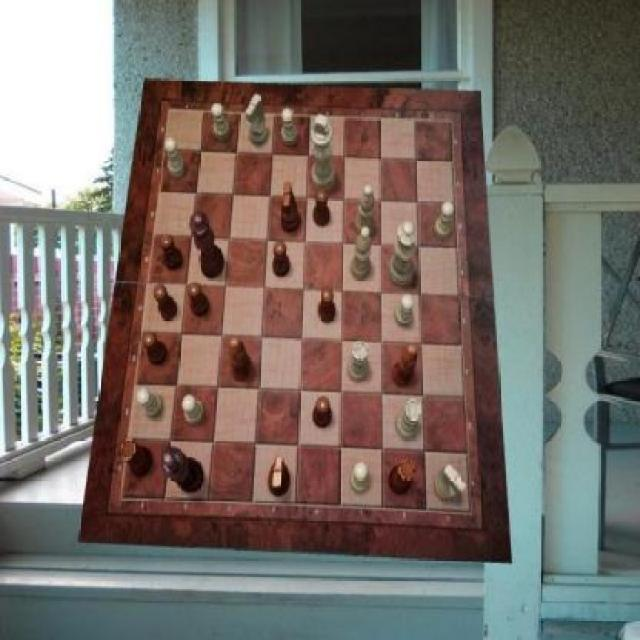bishop: (394, 344, 418, 388), (230, 335, 252, 381)
black-bishop: (160, 448, 204, 493)
black-king: (280, 181, 300, 234), (268, 457, 290, 497)
black-knight: (152, 284, 176, 320), (143, 331, 168, 365), (160, 234, 183, 270), (272, 240, 290, 278), (188, 282, 208, 316), (314, 189, 331, 227), (319, 286, 336, 322), (313, 397, 332, 429)
black-pawn: (191, 211, 226, 278)
black-queen: (120, 438, 153, 478), (389, 459, 416, 496)
black-rook: (351, 228, 371, 282), (356, 184, 376, 238)
white-bishop: (310, 114, 334, 192)
white-king: (434, 463, 467, 501), (246, 94, 269, 146)
white-knight: (166, 138, 186, 178), (136, 388, 162, 418), (434, 202, 454, 240), (211, 103, 230, 141), (183, 396, 206, 426), (351, 461, 370, 494), (396, 294, 414, 328), (282, 108, 298, 146)
white-pawn: (389, 220, 418, 286)
white-queen: (397, 400, 423, 440), (348, 340, 368, 382)
